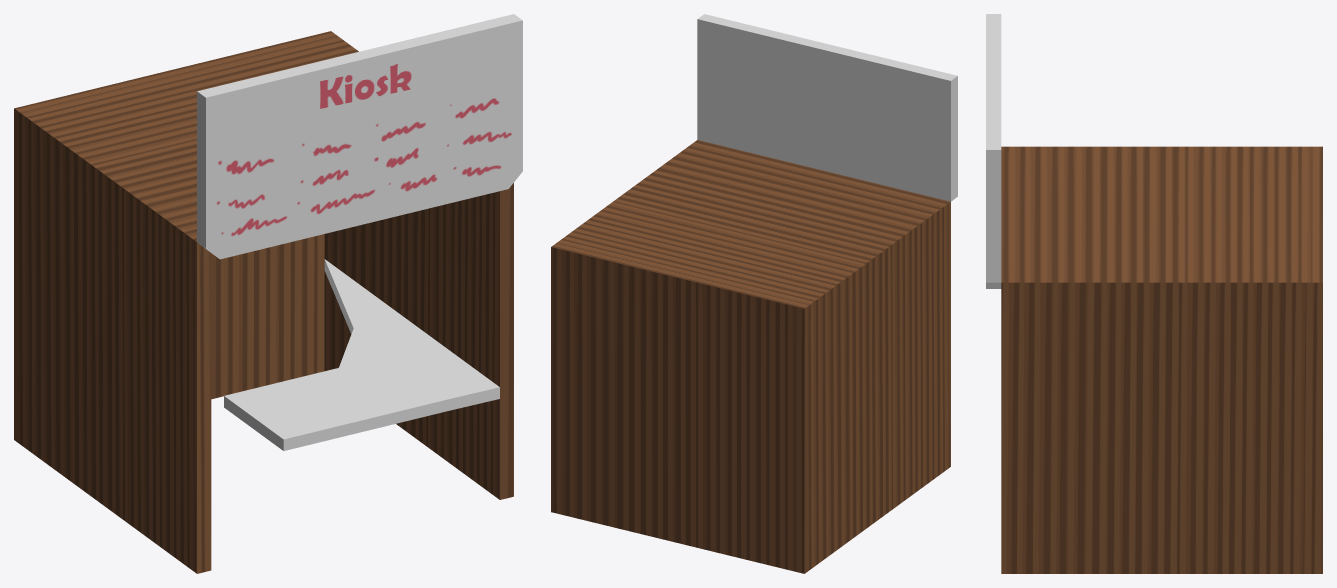
File: Kiosk.fbx
3 renders of one model, left to right at view 1: azimuth 30°, elevation 25°; view 2: azimuth 150°, elevation 25°; view 3: azimuth 270°, elevation 25°, orthographic. The views are drawn at different scales.
Parts seen in each view (by area): view 1: pCube3; view 2: pCube3; view 3: pCube3.
Boxes of the visible parts, bbox=[...] form: pCube3: bbox=[14, 14, 522, 573]; pCube3: bbox=[551, 14, 957, 573]; pCube3: bbox=[986, 14, 1322, 573].
Bounding box in the file's own units: 5.16 × 7.51 × 5.41.
